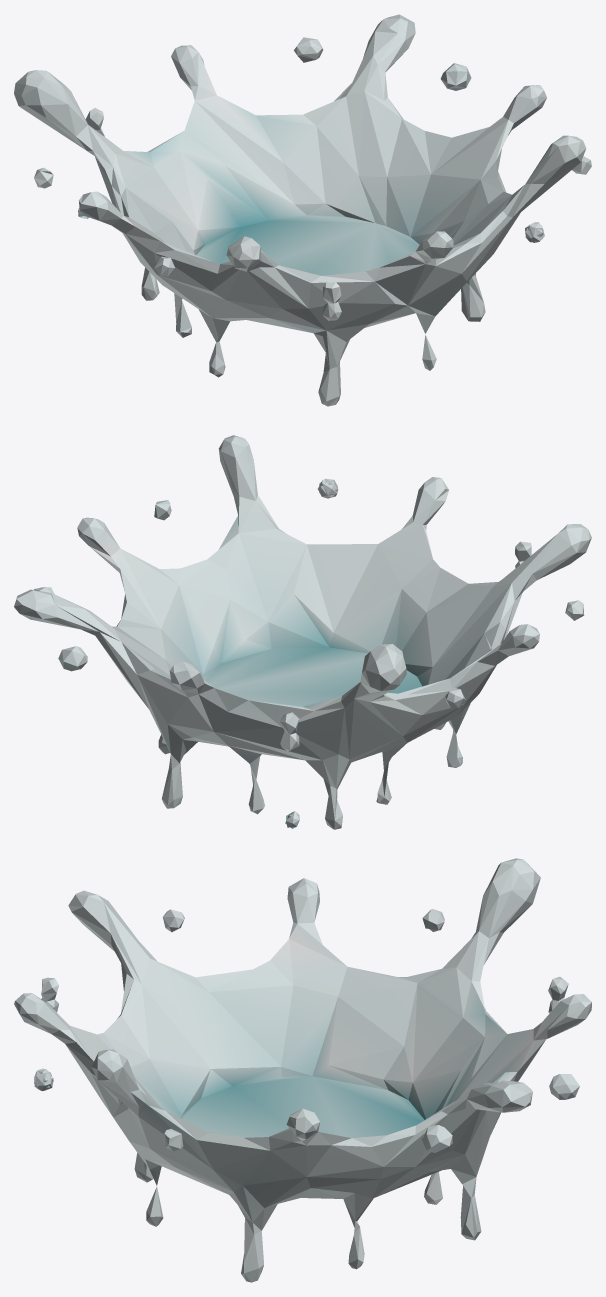
Rendered from vfx_crown2.glb.
3 renders of one model, top to bottom at view 1: azimuth 30°, elevation 25°; view 2: azimuth 150°, elevation 25°; view 3: azimuth 270°, elevation 25°, orthographic. The views are drawn at different scales.
Size of the model in its own units: 1.89 by 0.9278 by 1.89.
